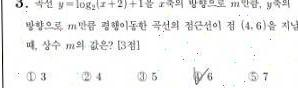choice: (191, 67, 204, 86)
not-choice: (245, 70, 260, 83), (24, 70, 37, 83), (136, 70, 148, 82), (80, 71, 92, 82)
